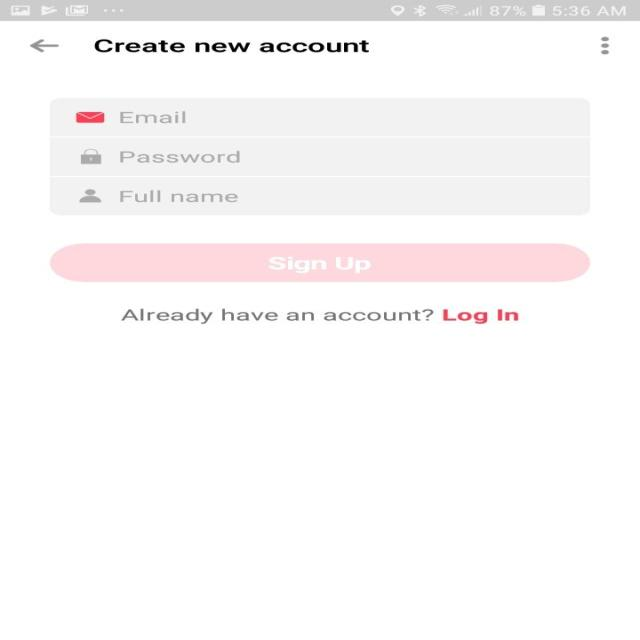EditText: (49, 177, 590, 216), (49, 138, 590, 176), (49, 98, 590, 136)
Icon: (30, 39, 59, 53), (75, 112, 105, 124), (78, 188, 102, 202), (80, 149, 102, 164), (599, 37, 610, 55)
Text: (120, 308, 518, 324), (94, 38, 369, 52), (120, 150, 240, 163), (119, 190, 238, 203), (119, 110, 185, 123)
TextButton: (48, 243, 590, 282)
